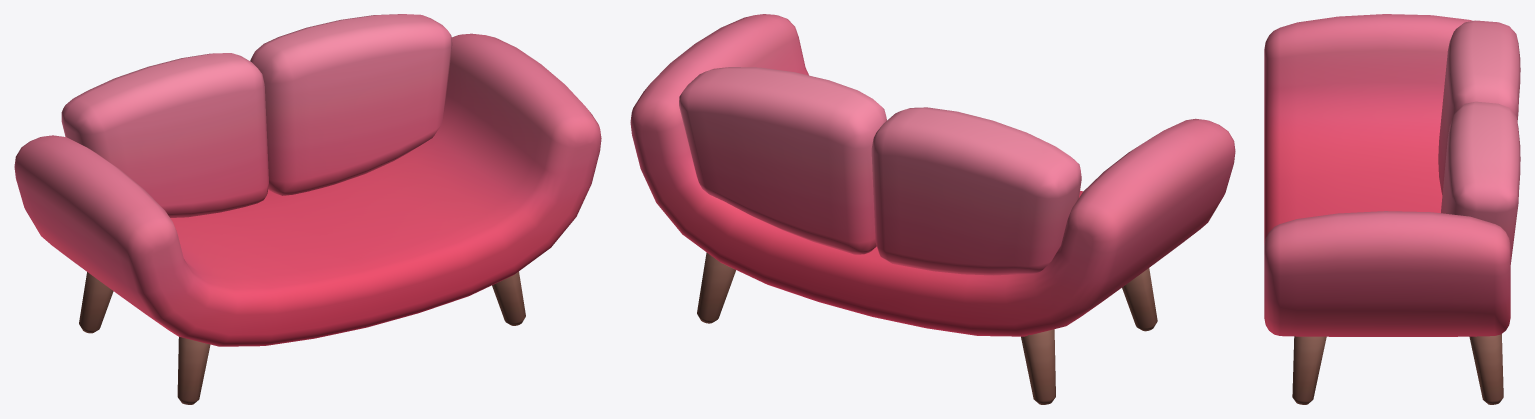
File: Couch_11.glb
3 views of the same model, side by side, from view 1: azimuth 30°, elevation 25°; view 2: azimuth 150°, elevation 25°; view 3: azimuth 270°, elevation 25° (orthographic). The views are drawn at different scales.
Parts seen in each view (by area): view 1: Couch_11; view 2: Couch_11; view 3: Couch_11.
Part boxes in pixels (x1,y1,x2,y2): Couch_11: [14, 14, 601, 404]; Couch_11: [630, 14, 1235, 404]; Couch_11: [1264, 14, 1520, 404].
Size of the model in its own units: 1.56 by 0.7705 by 0.7455.
Materials: 1 (1 with a texture image).
